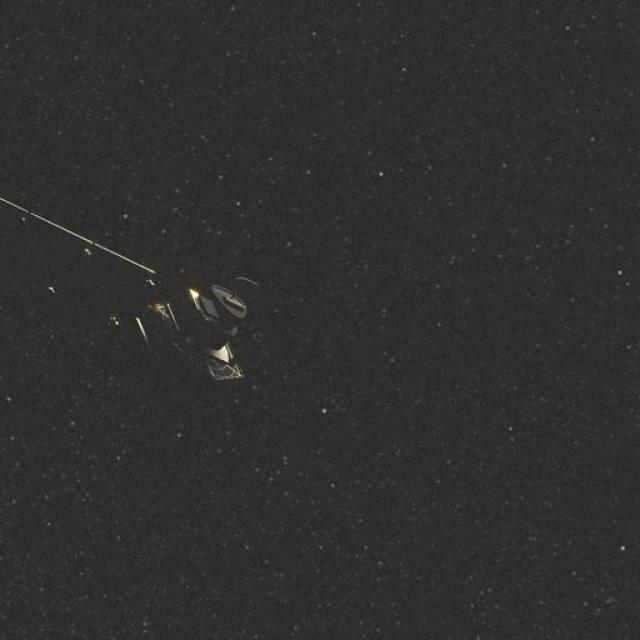earth_observation_sat_1: (84, 238, 288, 428)
